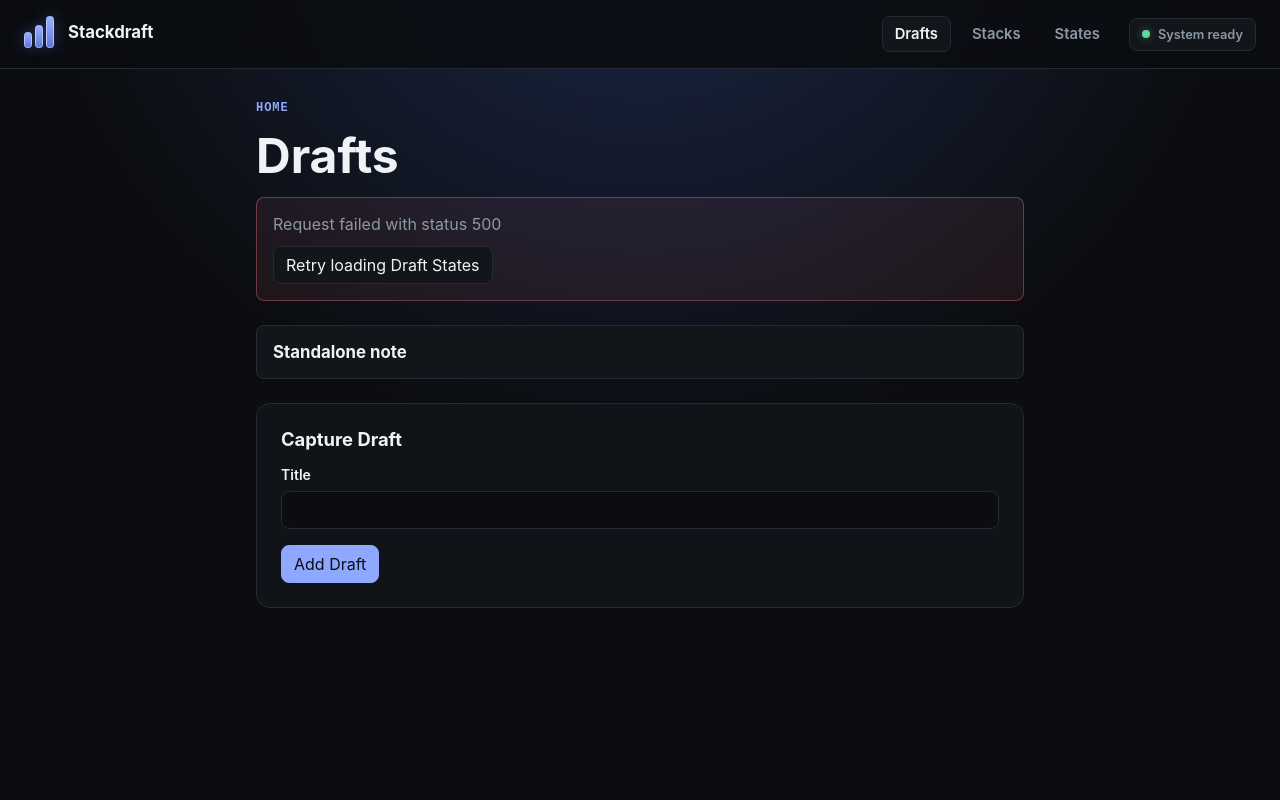
Test: draft list screen › shows a recoverable draft-state error without clearing loaded drafts
The width and height of the screenshot is (1280, 800).
Expected: the link "Standalone note" is shown, [273, 342, 407, 362]
Expected: the message "Request failed with status 500 Retry loading Draft States" is shown, [256, 197, 1024, 301]
Click the button "Retry loading Draft States".
click(383, 265)  # box [273, 246, 492, 284]
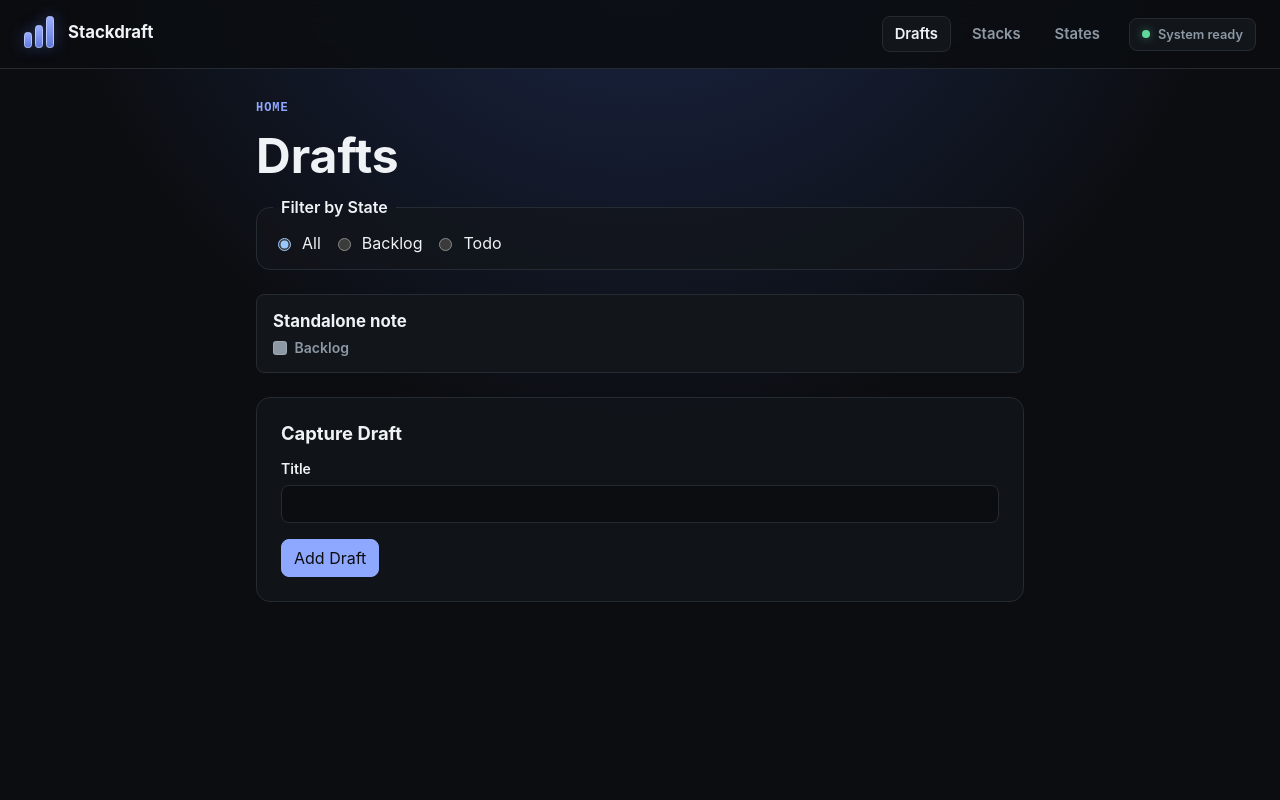
Result: the text "Backlog" below "Standalone note" is shown at [295, 339, 349, 356]
